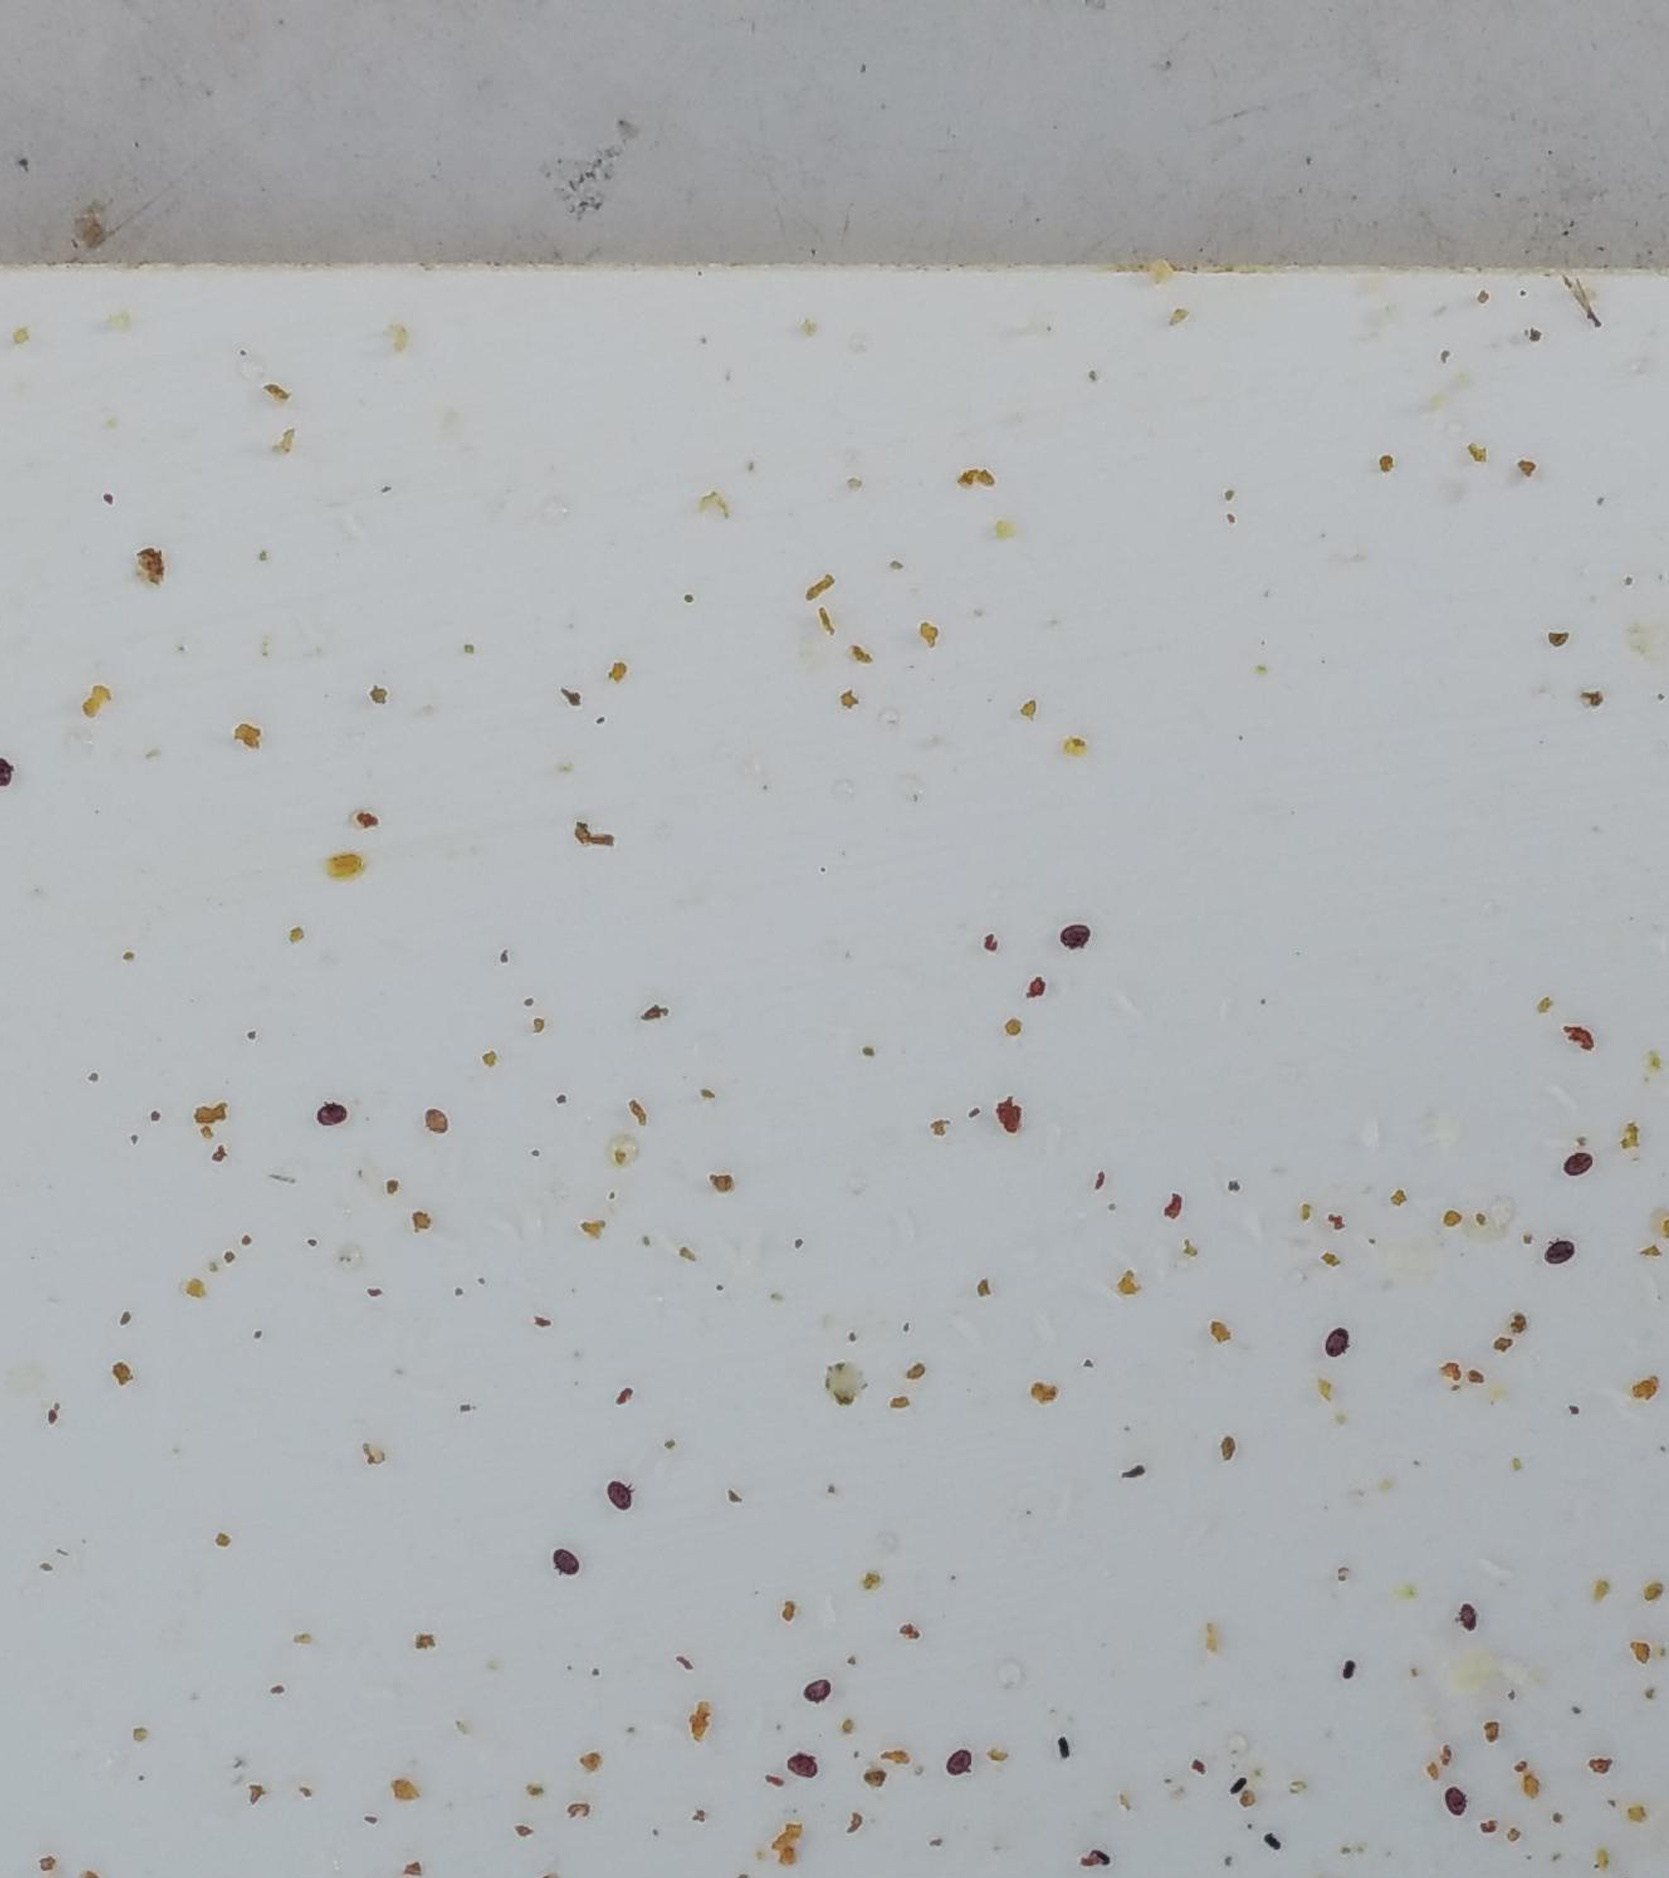Varroa: (545, 1545, 586, 1585), (934, 1744, 973, 1783), (1055, 913, 1091, 952), (1542, 1234, 1576, 1269), (603, 1475, 636, 1509), (802, 1677, 834, 1710), (1440, 1785, 1472, 1818), (313, 1095, 346, 1127), (1452, 1603, 1484, 1635), (1319, 1327, 1352, 1359), (786, 1749, 818, 1781), (1563, 1152, 1593, 1184), (420, 1107, 448, 1134)
